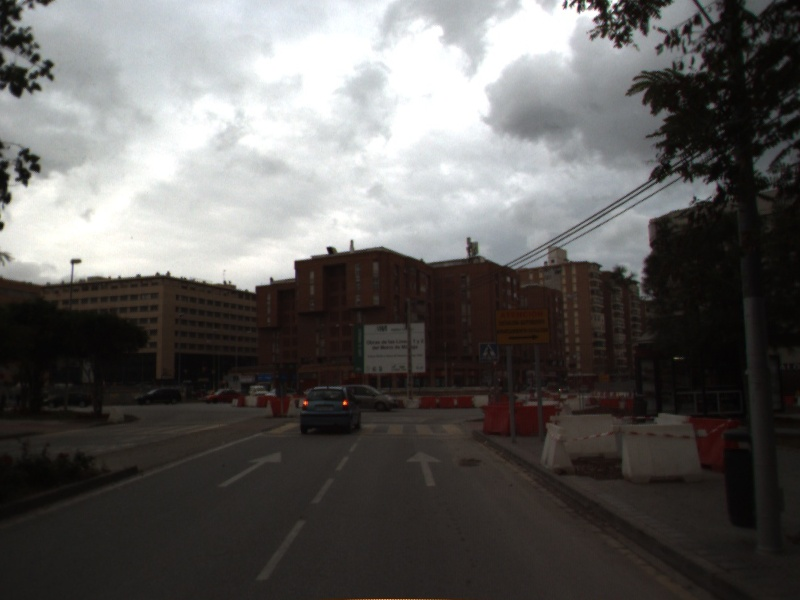STRAIGHT: (215, 448, 284, 489), (403, 448, 445, 489)
